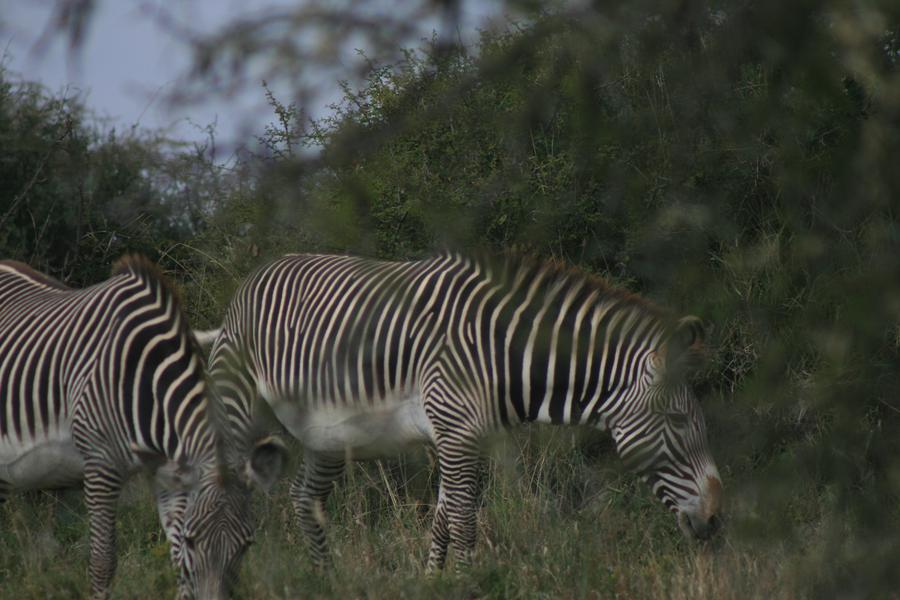zebra_grevys: (227, 236, 492, 435)
